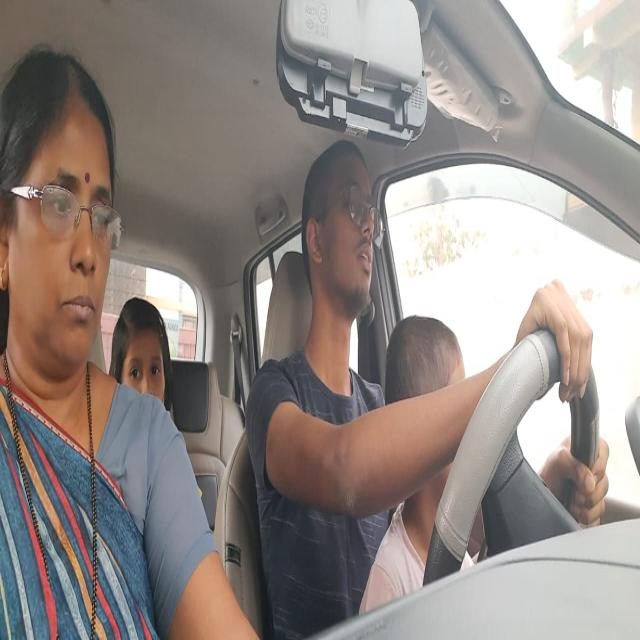child: (384, 314, 472, 506)
person: (1, 45, 115, 401), (301, 138, 384, 338), (108, 291, 176, 417)
